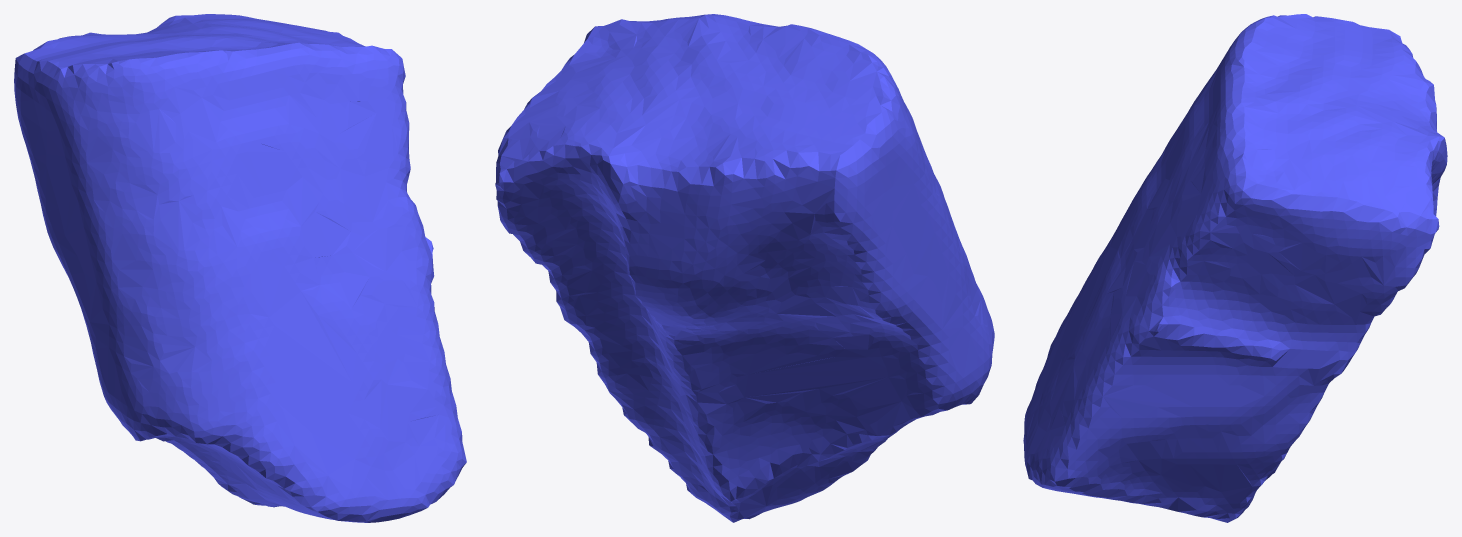
File: Model_35_RH__Area_6_of_cortex__medial_(supplementary_motor)_part_(A6M).obj
3 renders of one model, left to right at view 1: azimuth 30°, elevation 25°; view 2: azimuth 150°, elevation 25°; view 3: azimuth 270°, elevation 25°, orthographic. The views are drawn at different scales.
Size of the model in its own units: 2.91 by 4.07 by 3.57.
